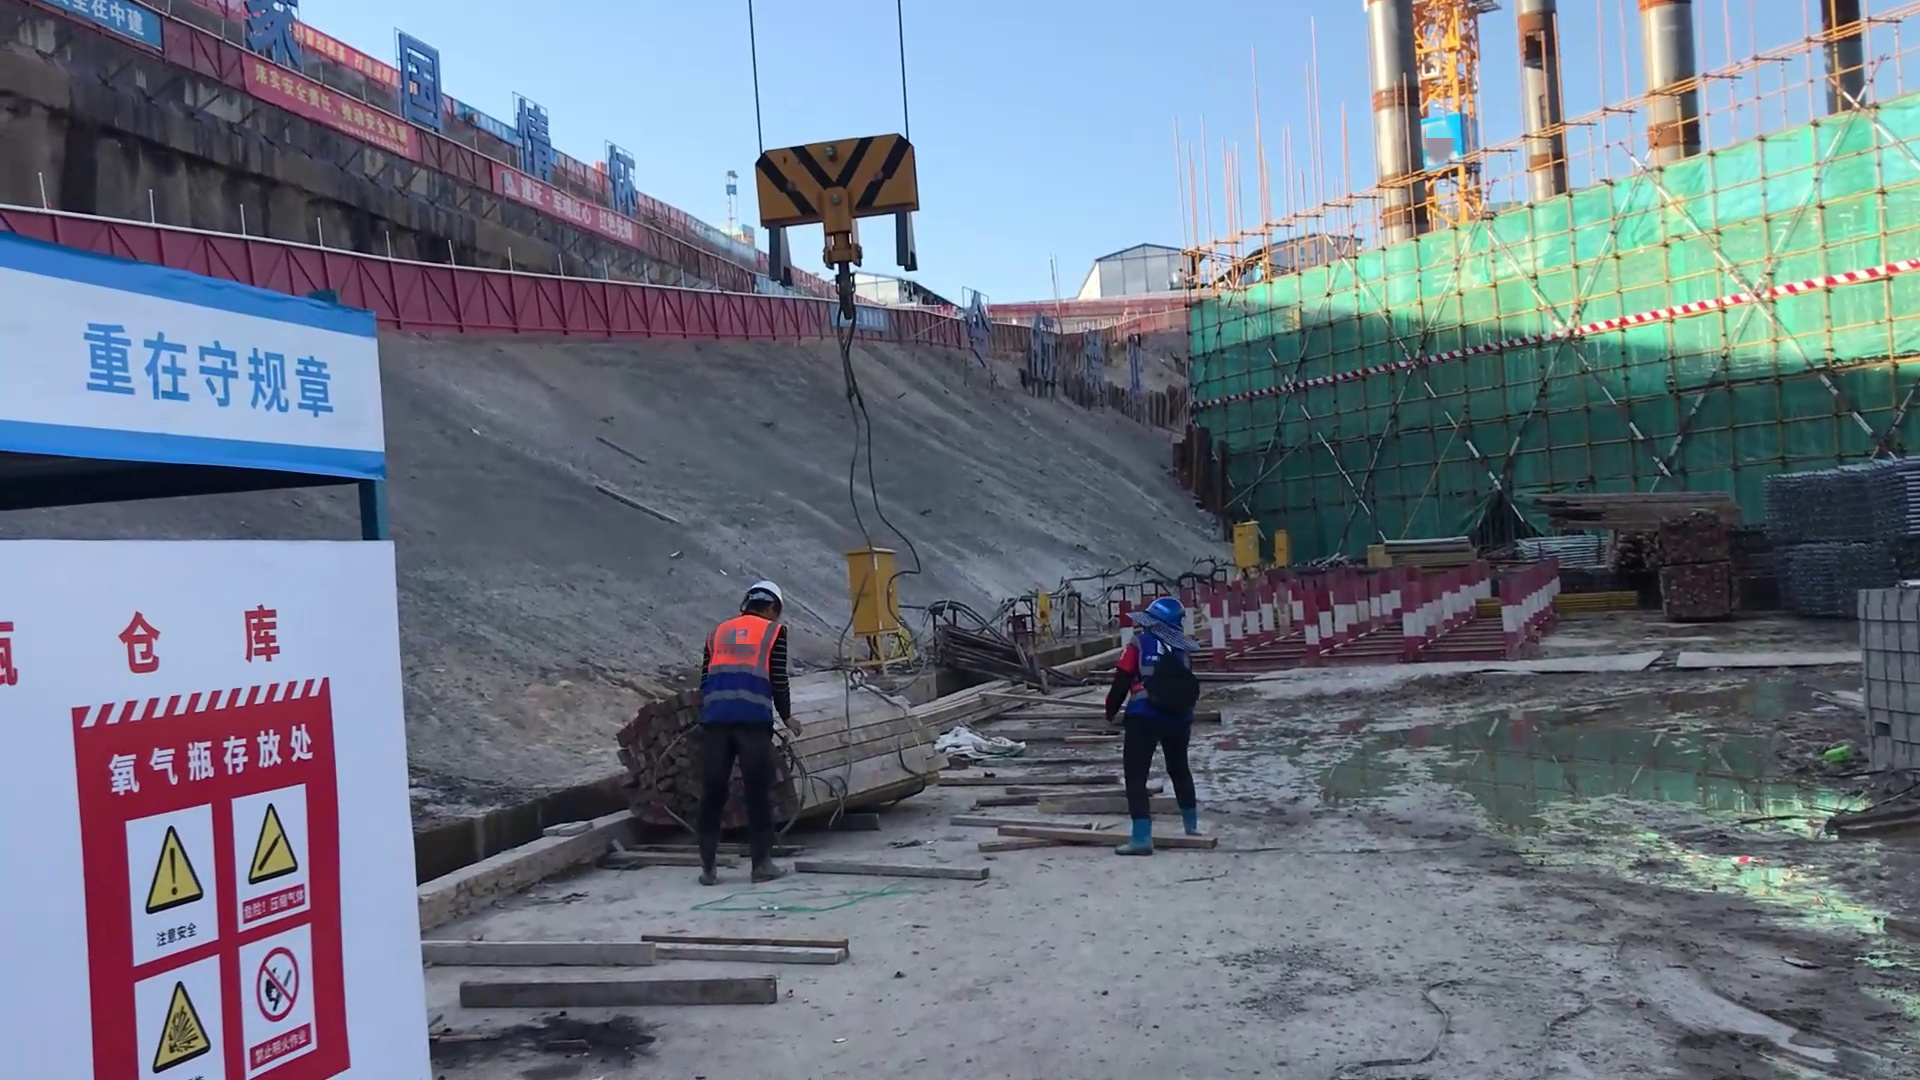brick: (1847, 578, 1920, 806)
ebox: (848, 541, 911, 639), (1228, 520, 1267, 573), (1271, 530, 1289, 568)
fence: (363, 255, 659, 345), (659, 289, 845, 342)
helmet: (738, 572, 788, 620), (1145, 598, 1196, 641)
hook: (752, 119, 926, 294)
person: (1099, 582, 1223, 859), (688, 580, 795, 901)
scaffold: (1762, 450, 1920, 544)
slogan: (75, 682, 339, 1074), (79, 293, 340, 457), (247, 49, 422, 176)
vest: (702, 615, 778, 674)
wood: (782, 656, 943, 816), (1511, 486, 1729, 548)
